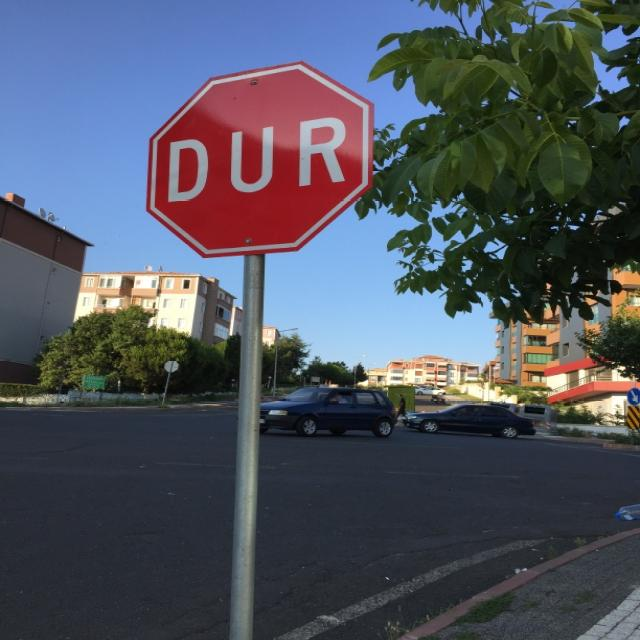dur: (146, 61, 374, 262)
